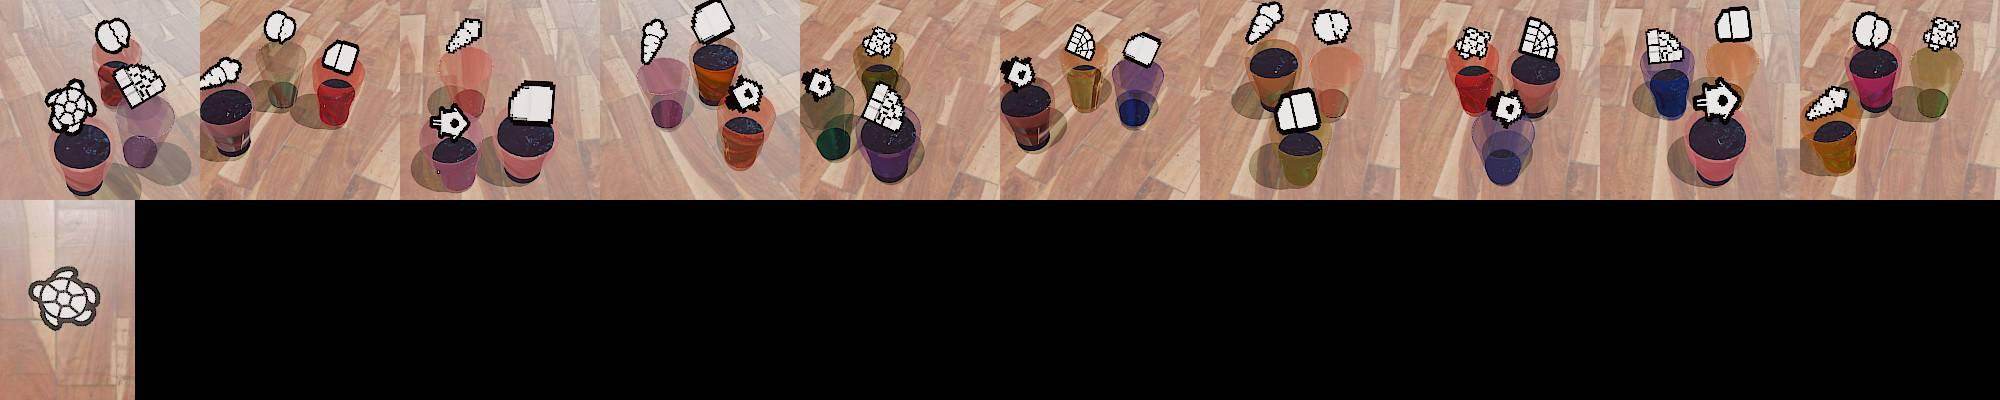icon: (27, 265, 100, 332), (43, 77, 100, 135), (110, 62, 166, 109), (508, 76, 558, 127), (1691, 76, 1743, 123), (1272, 86, 1321, 132), (861, 81, 906, 131), (689, 0, 735, 45), (429, 99, 474, 142), (1804, 83, 1850, 121), (1245, 2, 1284, 44), (1485, 88, 1527, 127), (1851, 11, 1893, 49), (1520, 16, 1558, 58), (1645, 27, 1687, 64), (445, 16, 483, 56), (1714, 6, 1753, 43), (1122, 31, 1161, 68), (320, 39, 360, 75), (1311, 9, 1351, 45), (200, 56, 242, 90), (639, 17, 668, 66), (94, 18, 131, 55), (1922, 16, 1959, 52), (727, 76, 764, 112), (1000, 55, 1037, 91), (1454, 26, 1492, 61), (1065, 22, 1097, 62), (262, 10, 297, 45), (801, 66, 835, 101), (862, 25, 897, 58)
